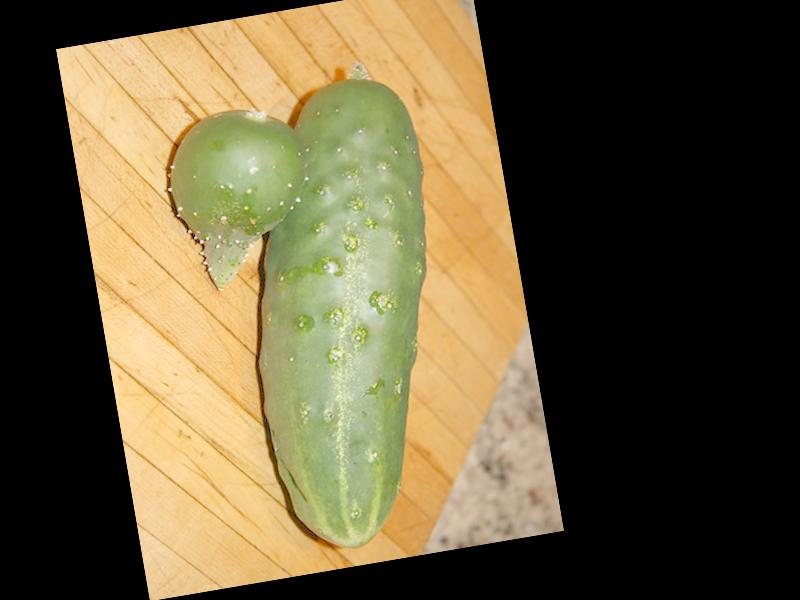Cucumber: (210, 69, 483, 560)
